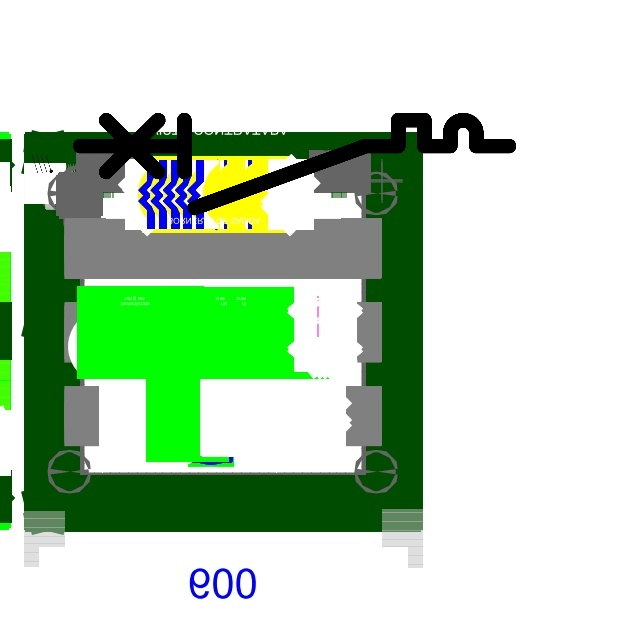interruptor_termomagnetico: (69, 109, 520, 219)
